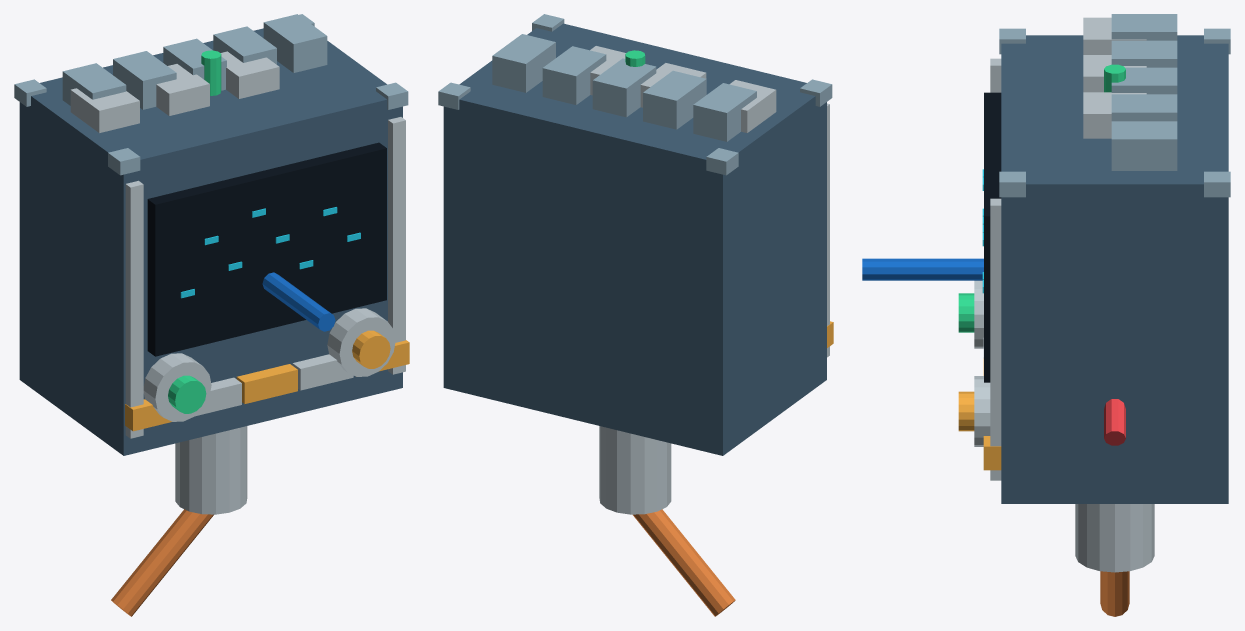
Rendered from 33_L73_PolishingVibrationSensor.fbx.
The picture shows the model from 3 angles, left to right: view 1: azimuth 30°, elevation 25°; view 2: azimuth 150°, elevation 25°; view 3: azimuth 270°, elevation 25°; orthographic projection. The views are drawn at different scales.
Visible parts, largest first — view 1: PolishingVibrationSensor; view 2: PolishingVibrationSensor; view 3: PolishingVibrationSensor.
Part boxes in pixels (<box>): PolishingVibrationSensor: <box>14,14,409,616</box>; PolishingVibrationSensor: <box>438,14,833,616</box>; PolishingVibrationSensor: <box>862,14,1230,616</box>.
Bounding box in the file's own units: 50.53 × 82.64 × 46.66.
